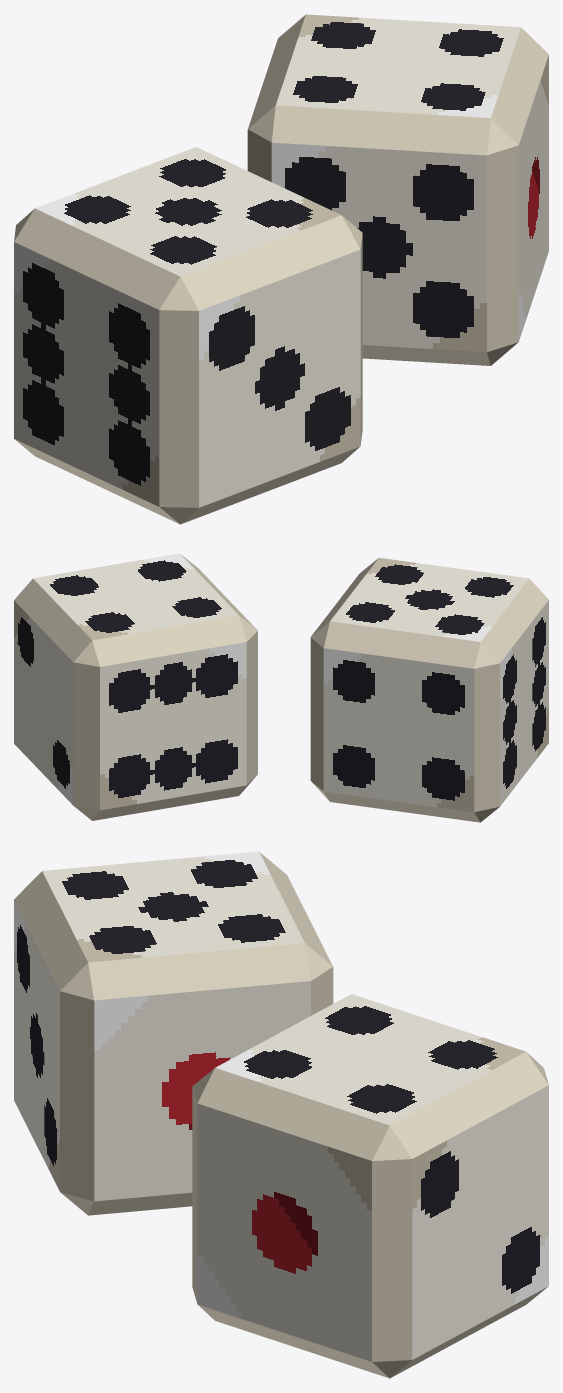
The model's file is play-dice.glb.
3 renders of one model, top to bottom at view 1: azimuth 30°, elevation 25°; view 2: azimuth 150°, elevation 25°; view 3: azimuth 270°, elevation 25°, orthographic. The views are drawn at different scales.
Visible parts, largest first — view 1: play.dice; view 2: play.dice; view 3: play.dice.
Part boxes in pixels (left/top/right/bottom): play.dice: left=14, top=14, right=548, bottom=524; play.dice: left=14, top=553, right=548, bottom=822; play.dice: left=14, top=851, right=548, bottom=1378.
Size of the model in its own units: 1.72 by 0.6882 by 1.32.
Materials: 7 (6 with a texture image).
